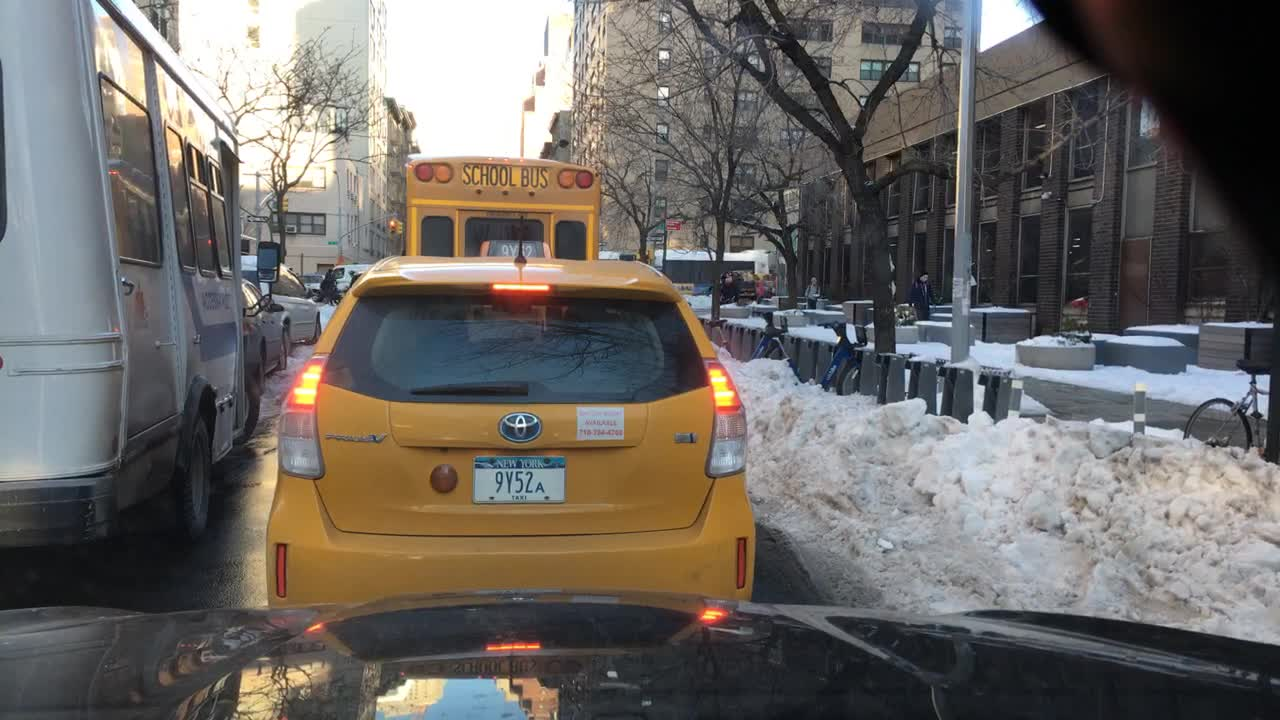bike: (1181, 358, 1271, 457), (816, 319, 869, 396), (747, 309, 797, 363), (700, 314, 733, 358)
bus: (0, 0, 286, 549), (401, 153, 604, 263), (598, 248, 772, 306)
car: (263, 253, 758, 608), (240, 251, 323, 346), (236, 278, 296, 376), (334, 262, 375, 290), (297, 273, 320, 287)
person: (902, 271, 937, 319), (320, 268, 338, 304), (804, 274, 822, 306)
